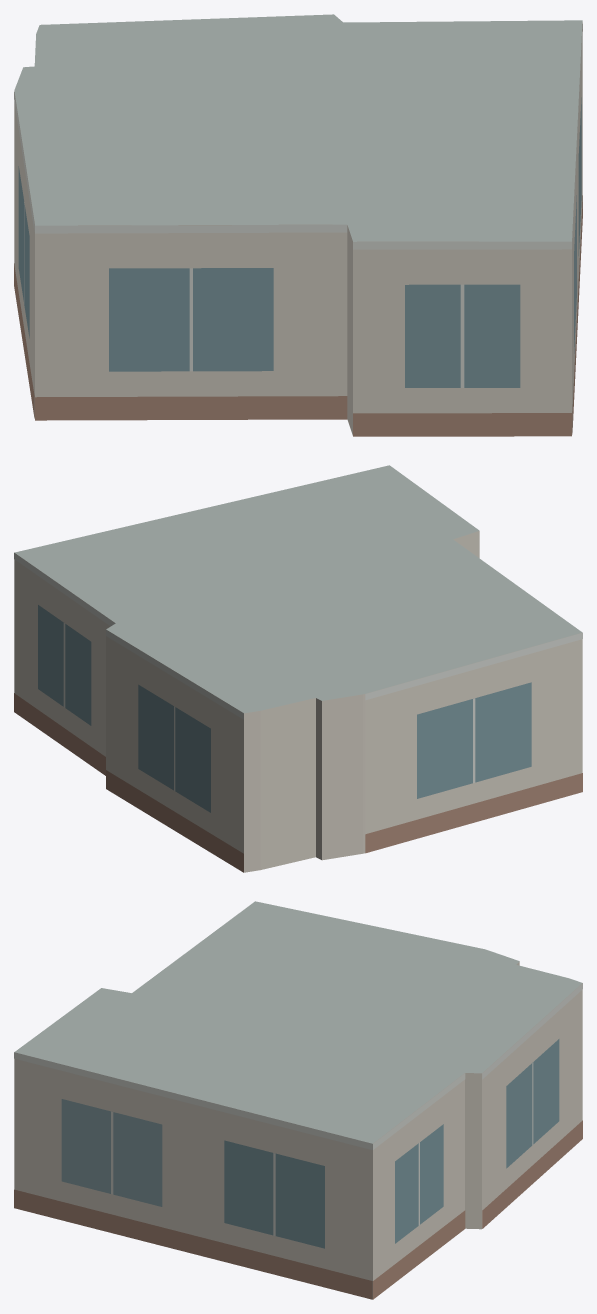
The model's file is survey-upis-32467116.glb.
3 renders of one model, top to bottom at view 1: azimuth 30°, elevation 25°; view 2: azimuth 150°, elevation 25°; view 3: azimuth 270°, elevation 25°, orthographic. The views are drawn at different scales.
Visible parts, largest first — view 1: survey-upis-32467116.tmp; view 2: survey-upis-32467116.tmp; view 3: survey-upis-32467116.tmp.
Part boxes in pixels (x1,y1,x2,y2): survey-upis-32467116.tmp: (14, 14, 582, 436); survey-upis-32467116.tmp: (14, 465, 582, 872); survey-upis-32467116.tmp: (14, 901, 582, 1299).
Size of the model in its own units: 10.19 by 3.05 by 10.09.
